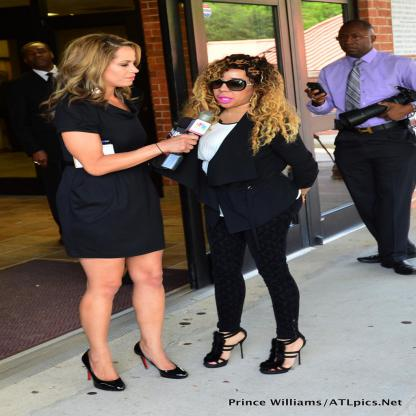face: (96, 42, 138, 86), (210, 69, 254, 108), (339, 26, 371, 56), (24, 43, 52, 65)
